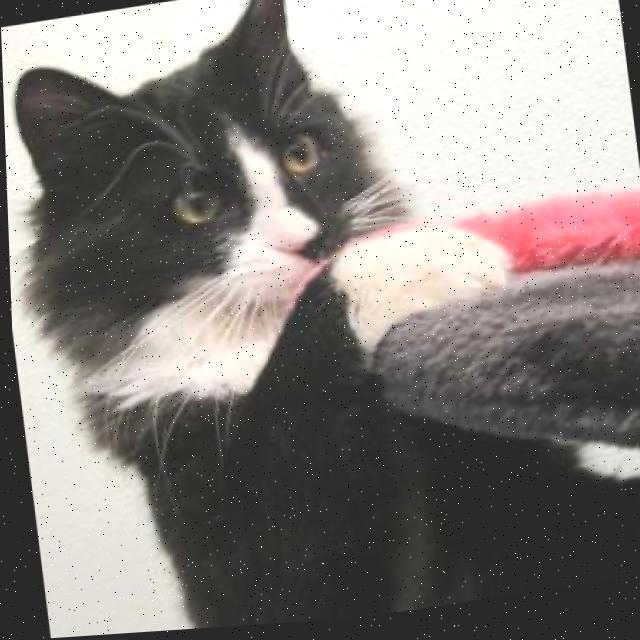Tuxedo: (0, 0, 555, 640)
